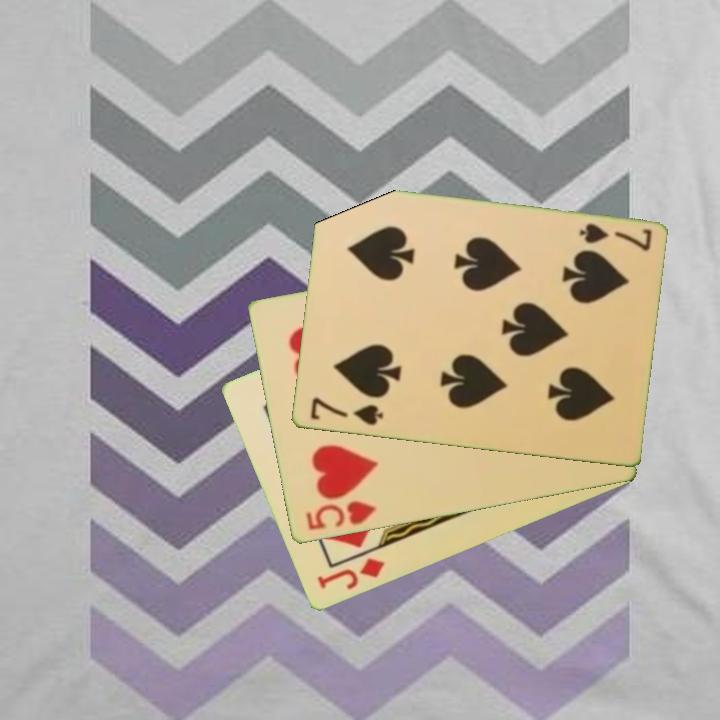5h: (302, 497, 379, 534)
7s: (306, 394, 386, 429), (575, 220, 654, 254)
Jd: (313, 554, 388, 594)
